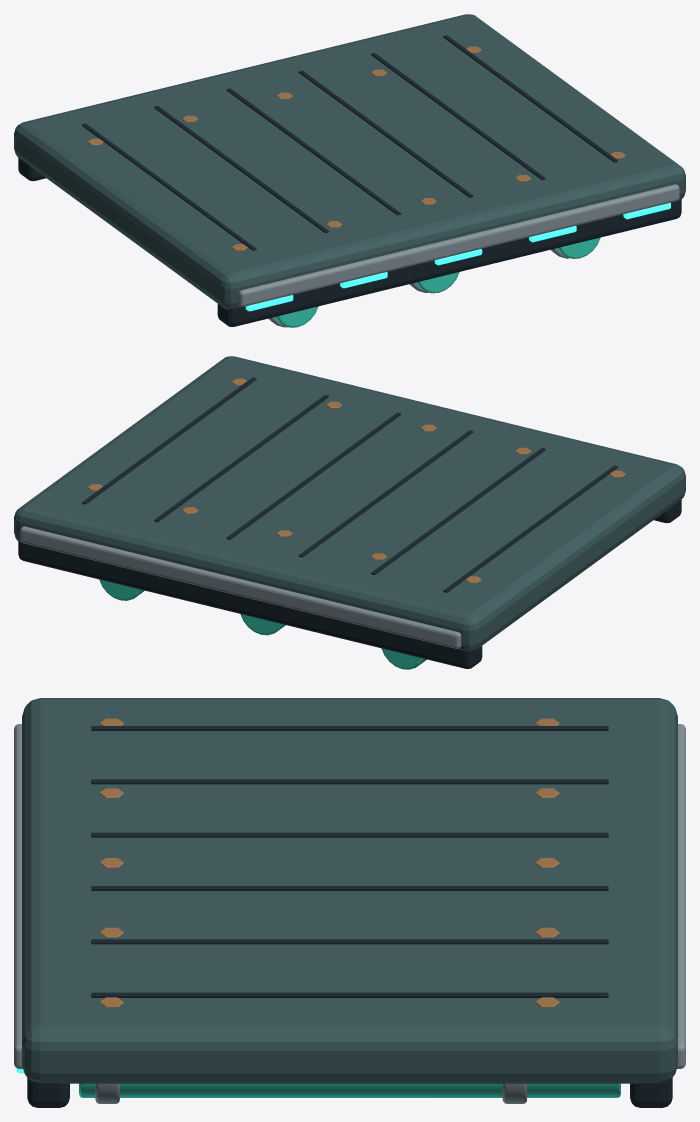
File: traverse_ledge.glb
The picture shows the model from 3 angles, top to bottom: view 1: azimuth 30°, elevation 25°; view 2: azimuth 150°, elevation 25°; view 3: azimuth 270°, elevation 25°; orthographic projection. The views are drawn at different scales.
Visible parts, largest first — view 1: traverse_ledge; view 2: traverse_ledge; view 3: traverse_ledge.
Boxes of the visible parts, x1,y1,x2,y2 form: traverse_ledge: [14, 14, 685, 327]; traverse_ledge: [14, 356, 685, 669]; traverse_ledge: [14, 698, 685, 1107].
Size of the model in its own units: 3.98 by 0.734 by 3.3.
